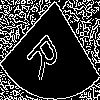R: (25, 25, 68, 82)
